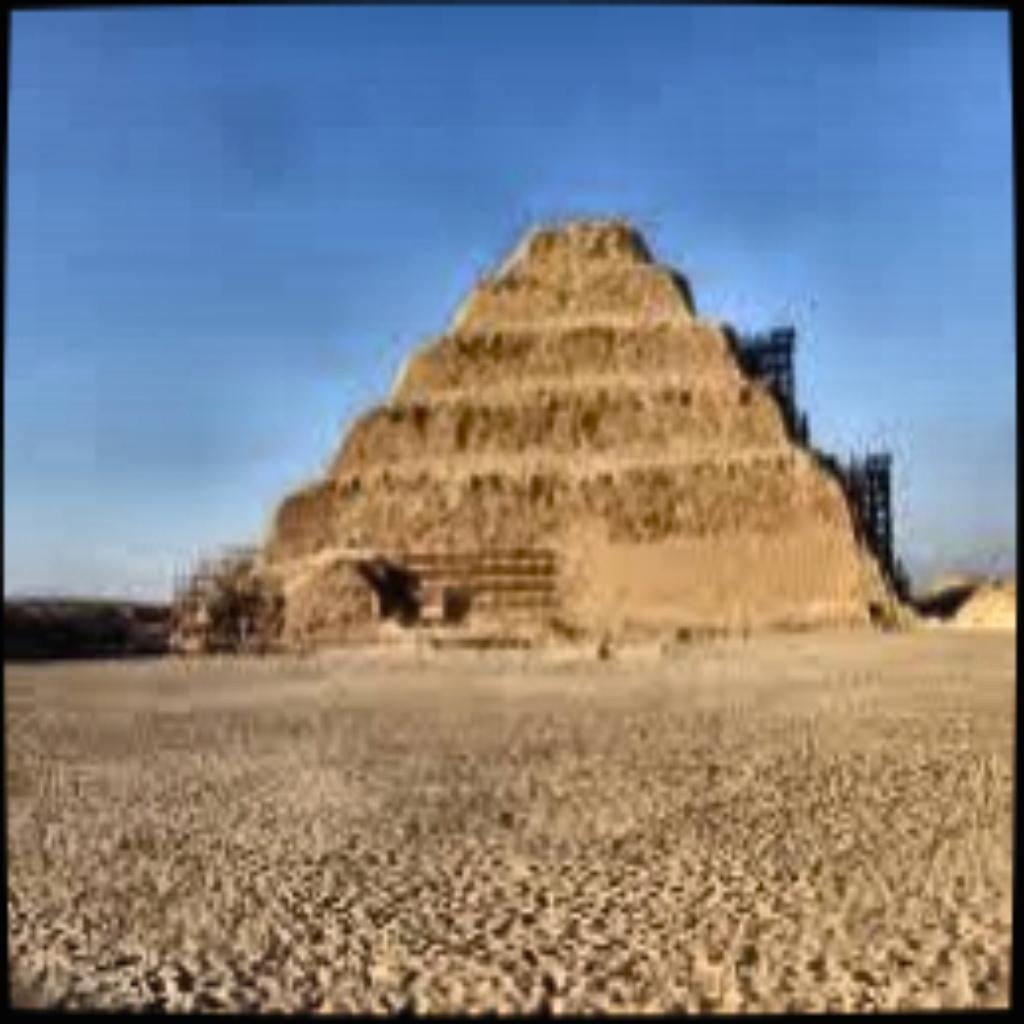Pyramid of Djoser: (218, 206, 918, 649)
